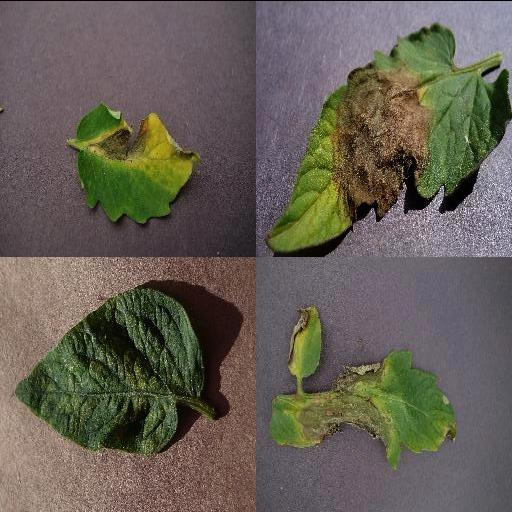Late Blight: (264, 22, 512, 251), (269, 348, 457, 470), (75, 102, 199, 226), (286, 304, 326, 378)
Spider Mites: (11, 287, 205, 453)
